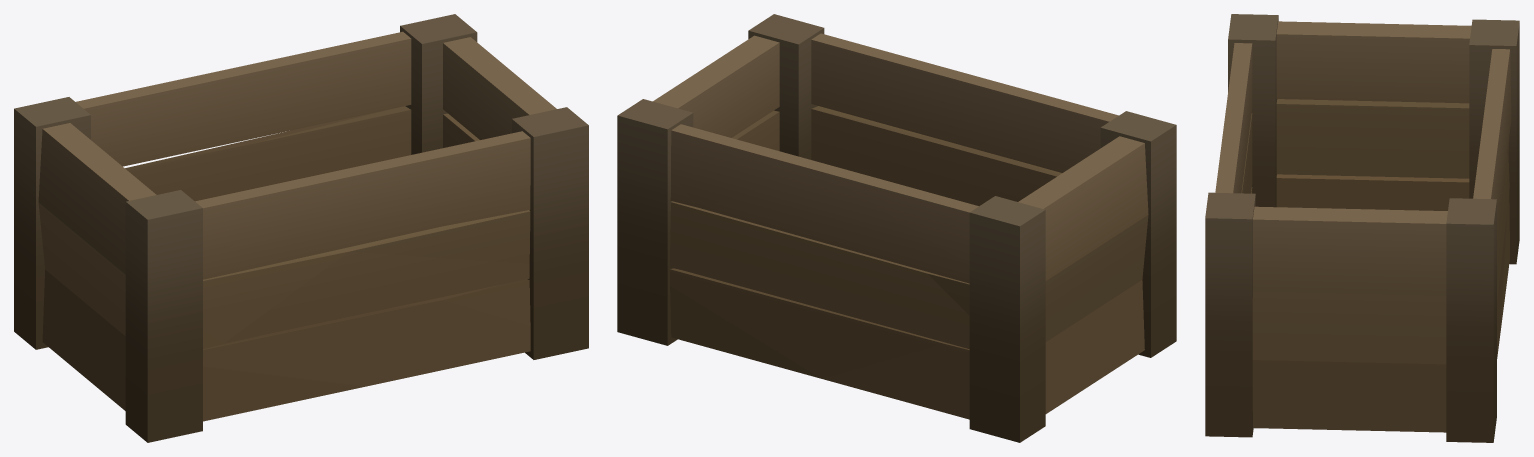
Rendered from WoodenCrate_S.fbx.
3 renders of one model, left to right at view 1: azimuth 30°, elevation 25°; view 2: azimuth 150°, elevation 25°; view 3: azimuth 270°, elevation 25°, orthographic. The views are drawn at different scales.
Visible parts, largest first — view 1: WoodenCrate_S.004; view 2: WoodenCrate_S.004; view 3: WoodenCrate_S.004.
Part boxes in pixels (x1,y1,x2,y2): WoodenCrate_S.004: [14, 14, 588, 442]; WoodenCrate_S.004: [617, 14, 1176, 442]; WoodenCrate_S.004: [1205, 14, 1519, 442].
Bounding box in the file's own units: 1.04 × 0.5 × 0.6534.
1 material, 1 textured.
